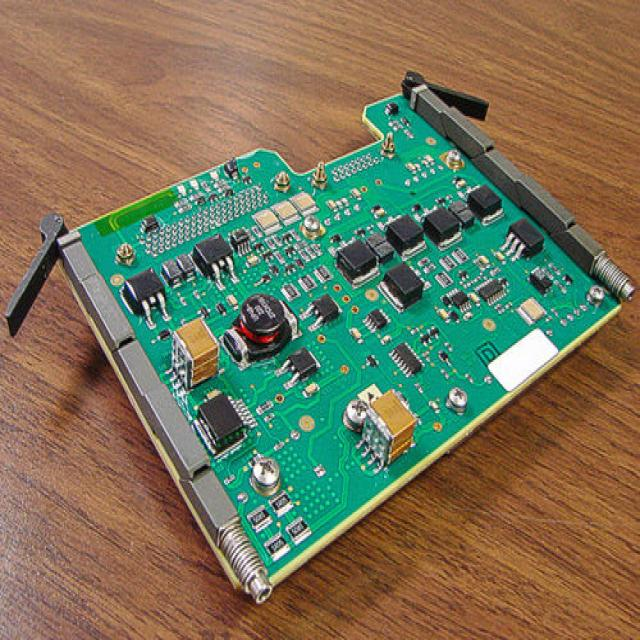pcb: (5, 66, 635, 606), (358, 388, 418, 468)
